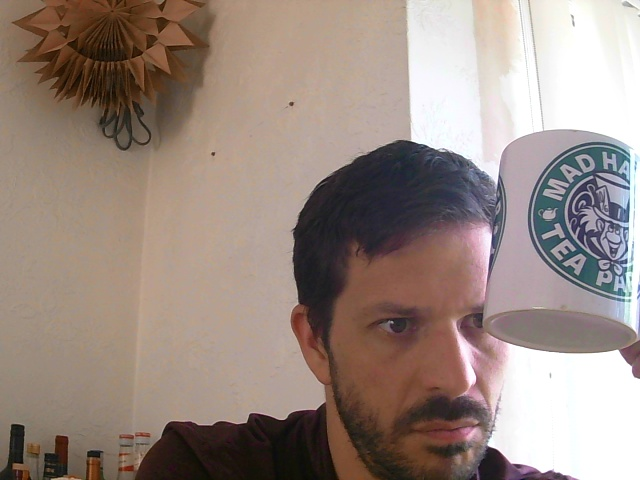mug: (480, 129, 640, 354)
